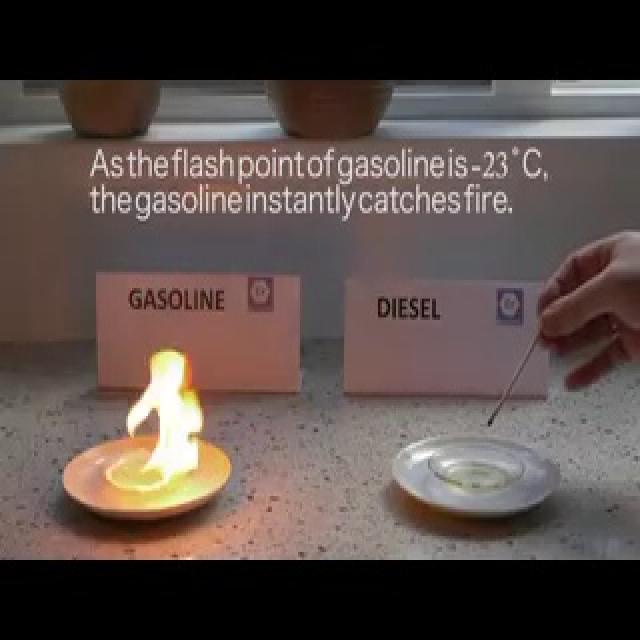fire: (125, 340, 209, 488)
